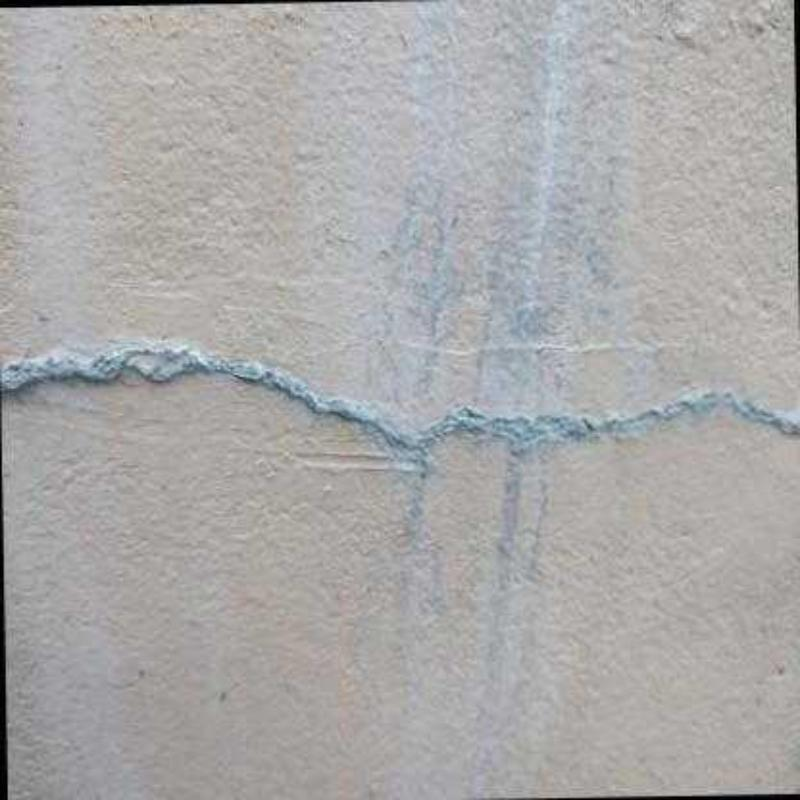pothole: (0, 335, 800, 479)
